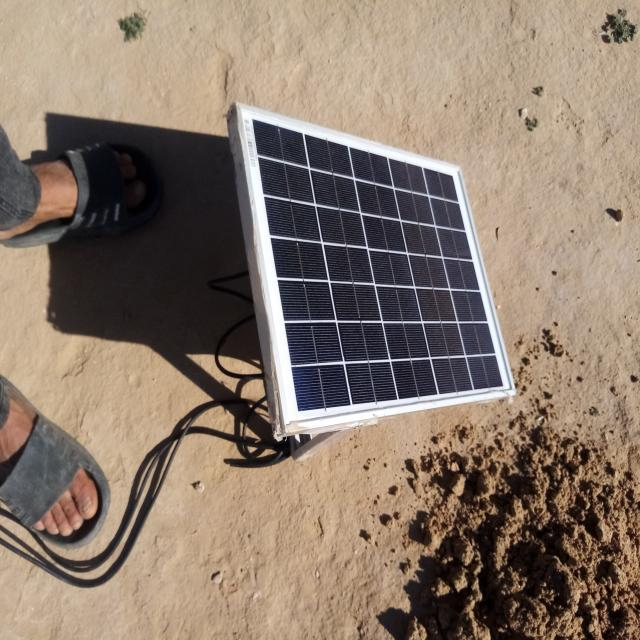no faulty: (235, 102, 516, 433)
